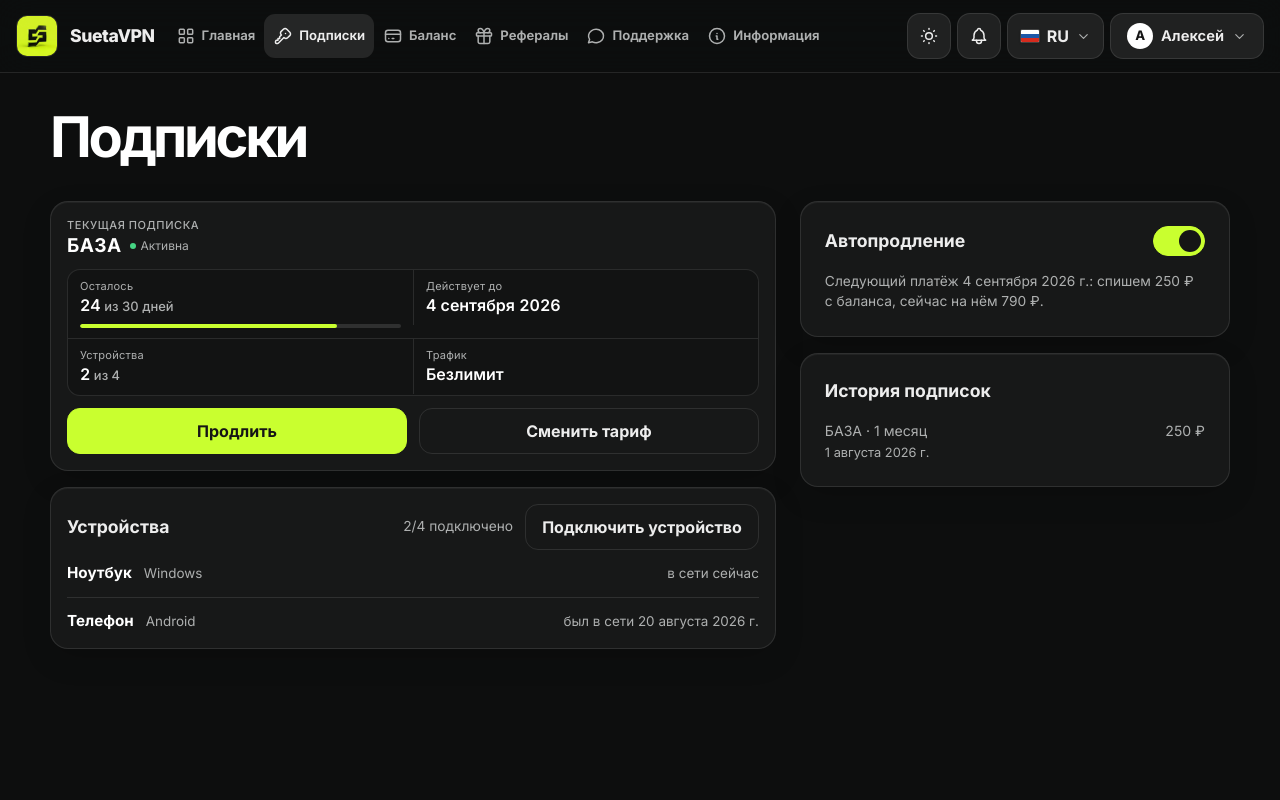
Test: subscriptions screen › toggles auto-renewal, explains the next charge and persists the choice
Click the switch named "Автопродление" at (1179, 241), box [1153,226,1205,256]
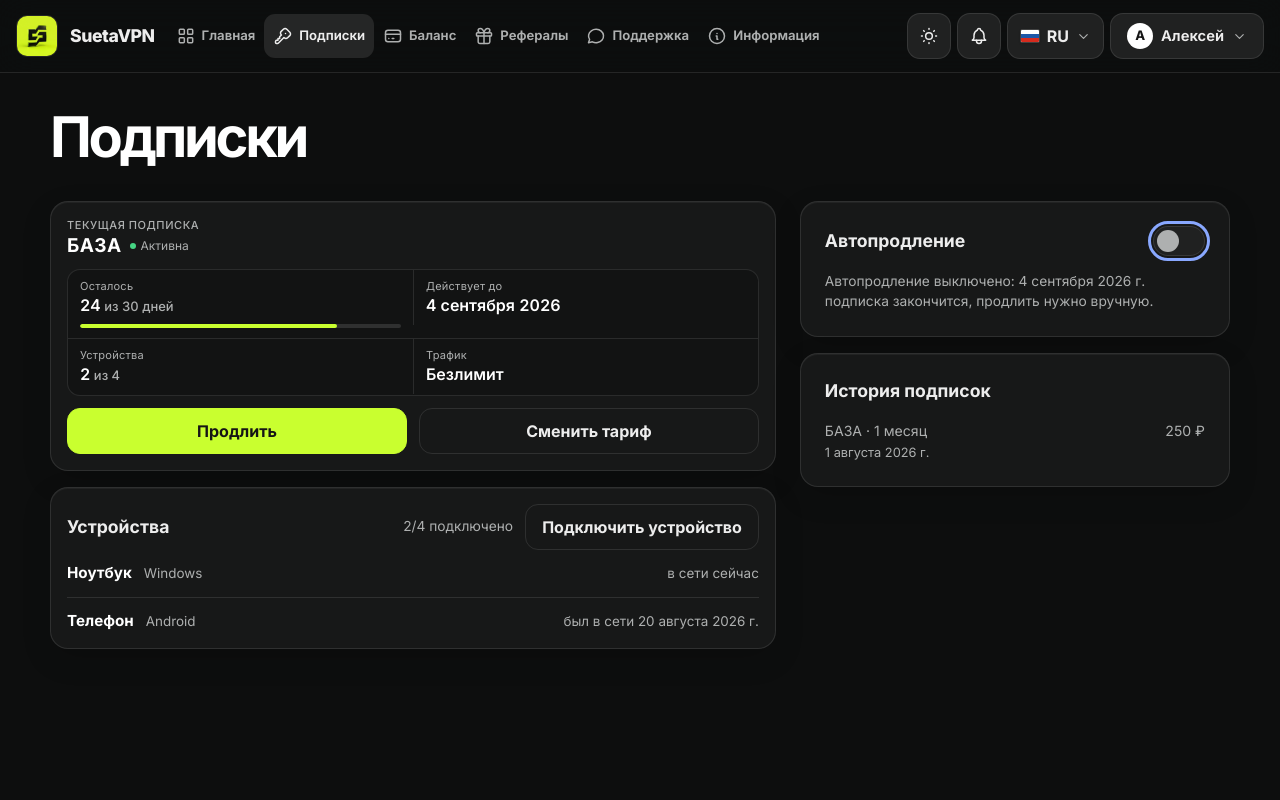
Expected: the switch named "Автопродление" is not checked, [1153,226,1205,256]
Expected: the text "Автопродление выключено" is shown, [825,273,1153,309]
